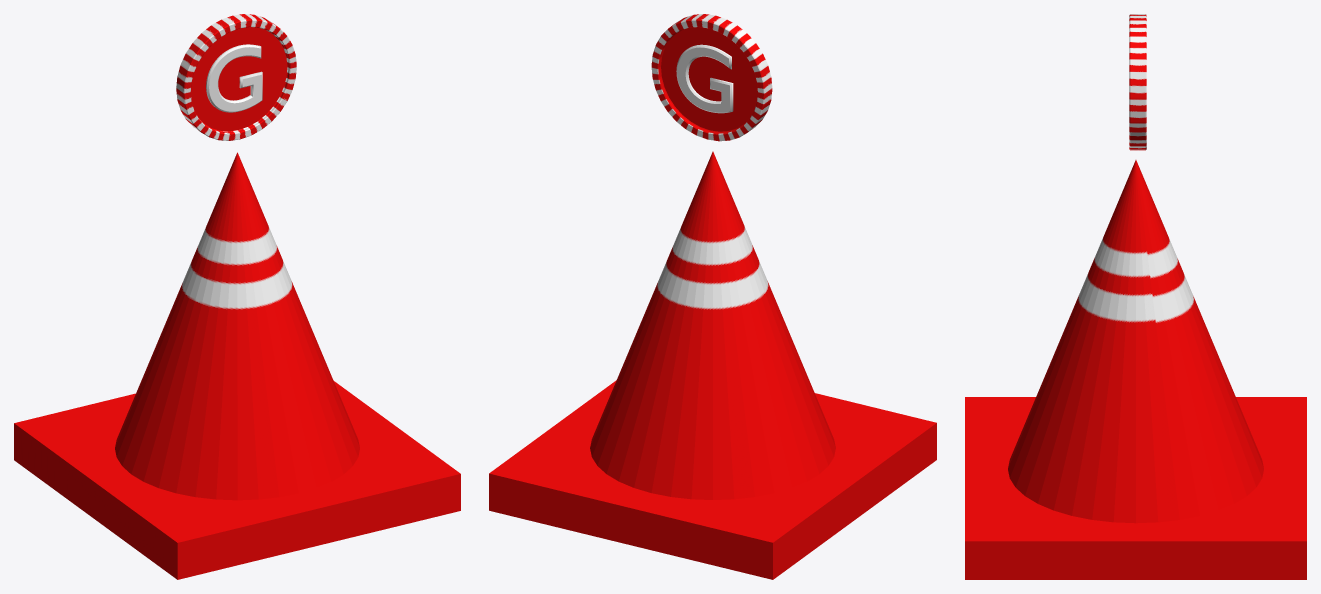
File: cone_with_coin_G.dae
3 views of the same model, side by side, from view 1: azimuth 30°, elevation 25°; view 2: azimuth 150°, elevation 25°; view 3: azimuth 270°, elevation 25° (orthographic). The views are drawn at different scales.
Visible parts, largest first — view 1: Sankaku_Cone, Cylinder_001, Text_001; view 2: Sankaku_Cone, Cylinder_001, Text_000; view 3: Sankaku_Cone, Cylinder_001.
Boxes of the visible parts, <box> form: Sankaku_Cone: <box>14,152,460,579</box>; Cylinder_001: <box>176,14,296,140</box>; Text_001: <box>206,44,262,112</box>; Sankaku_Cone: <box>489,151,936,579</box>; Cylinder_001: <box>651,14,772,141</box>; Text_000: <box>676,44,733,113</box>; Sankaku_Cone: <box>965,160,1306,579</box>; Cylinder_001: <box>1129,14,1146,150</box>.
Bounding box in the file's own units: 0.4 × 0.4 × 0.6295.
Materials: 3 (3 with a texture image).
